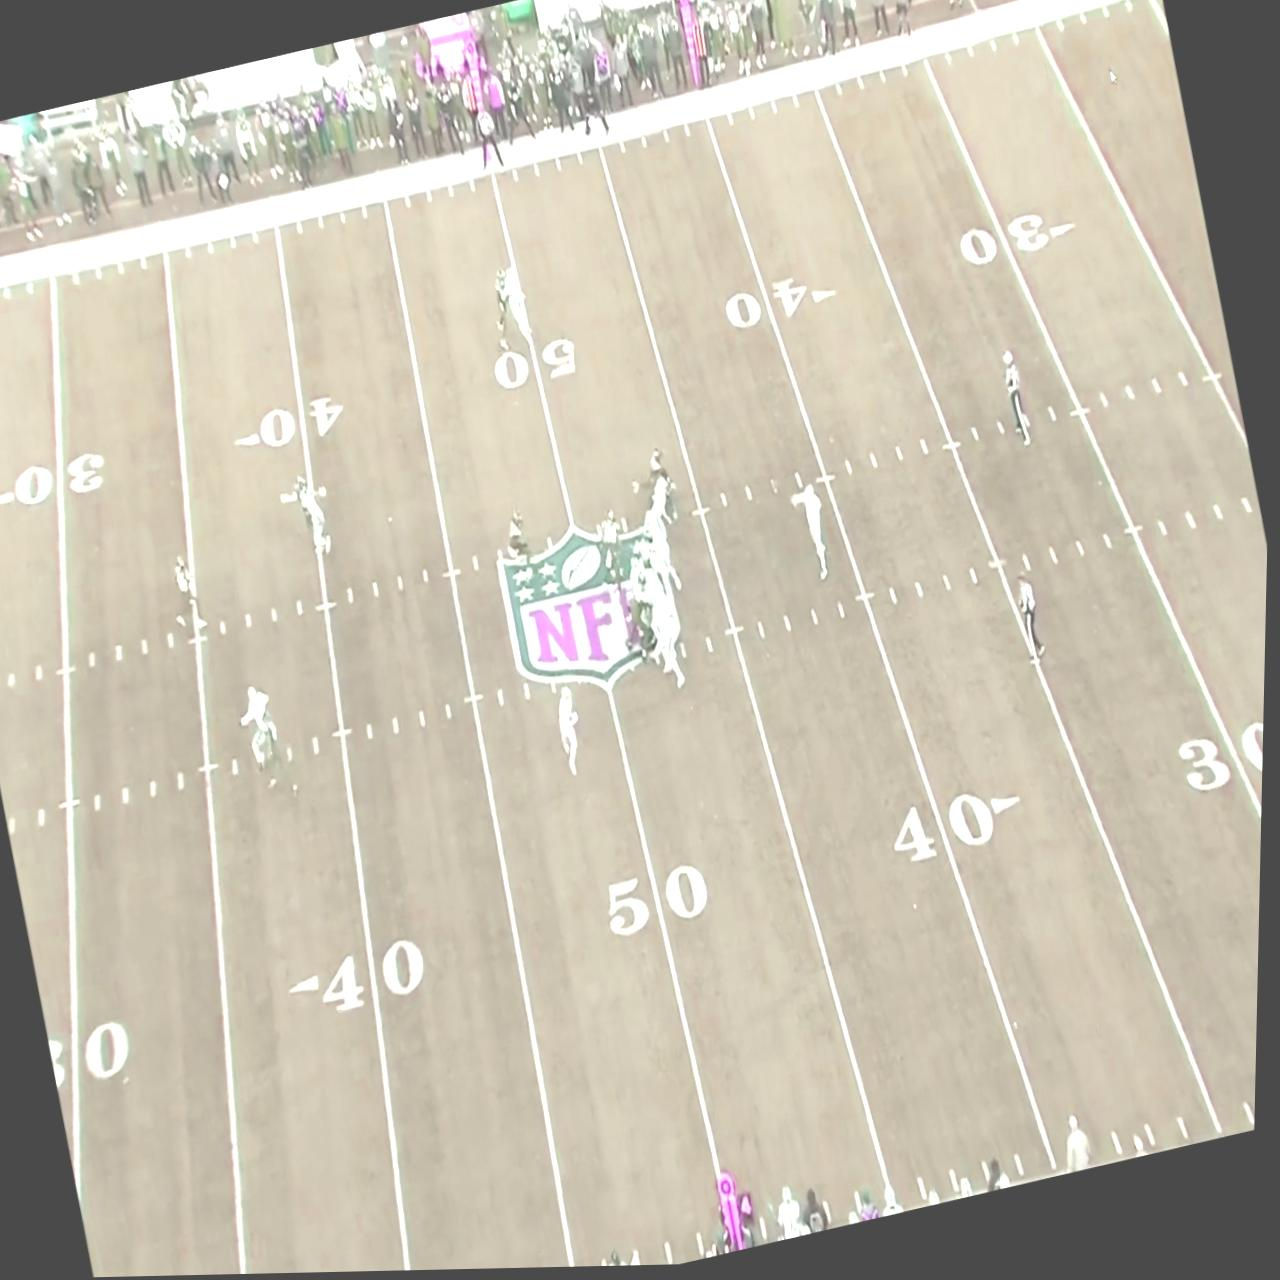30L: (52, 1016, 144, 1095), (0, 451, 111, 515)
30R: (958, 209, 1081, 275), (1178, 720, 1267, 802)
40L: (286, 934, 436, 1026), (231, 393, 350, 459)
40R: (887, 781, 1033, 872), (723, 272, 840, 338)
50: (602, 864, 719, 945), (490, 336, 584, 396)
